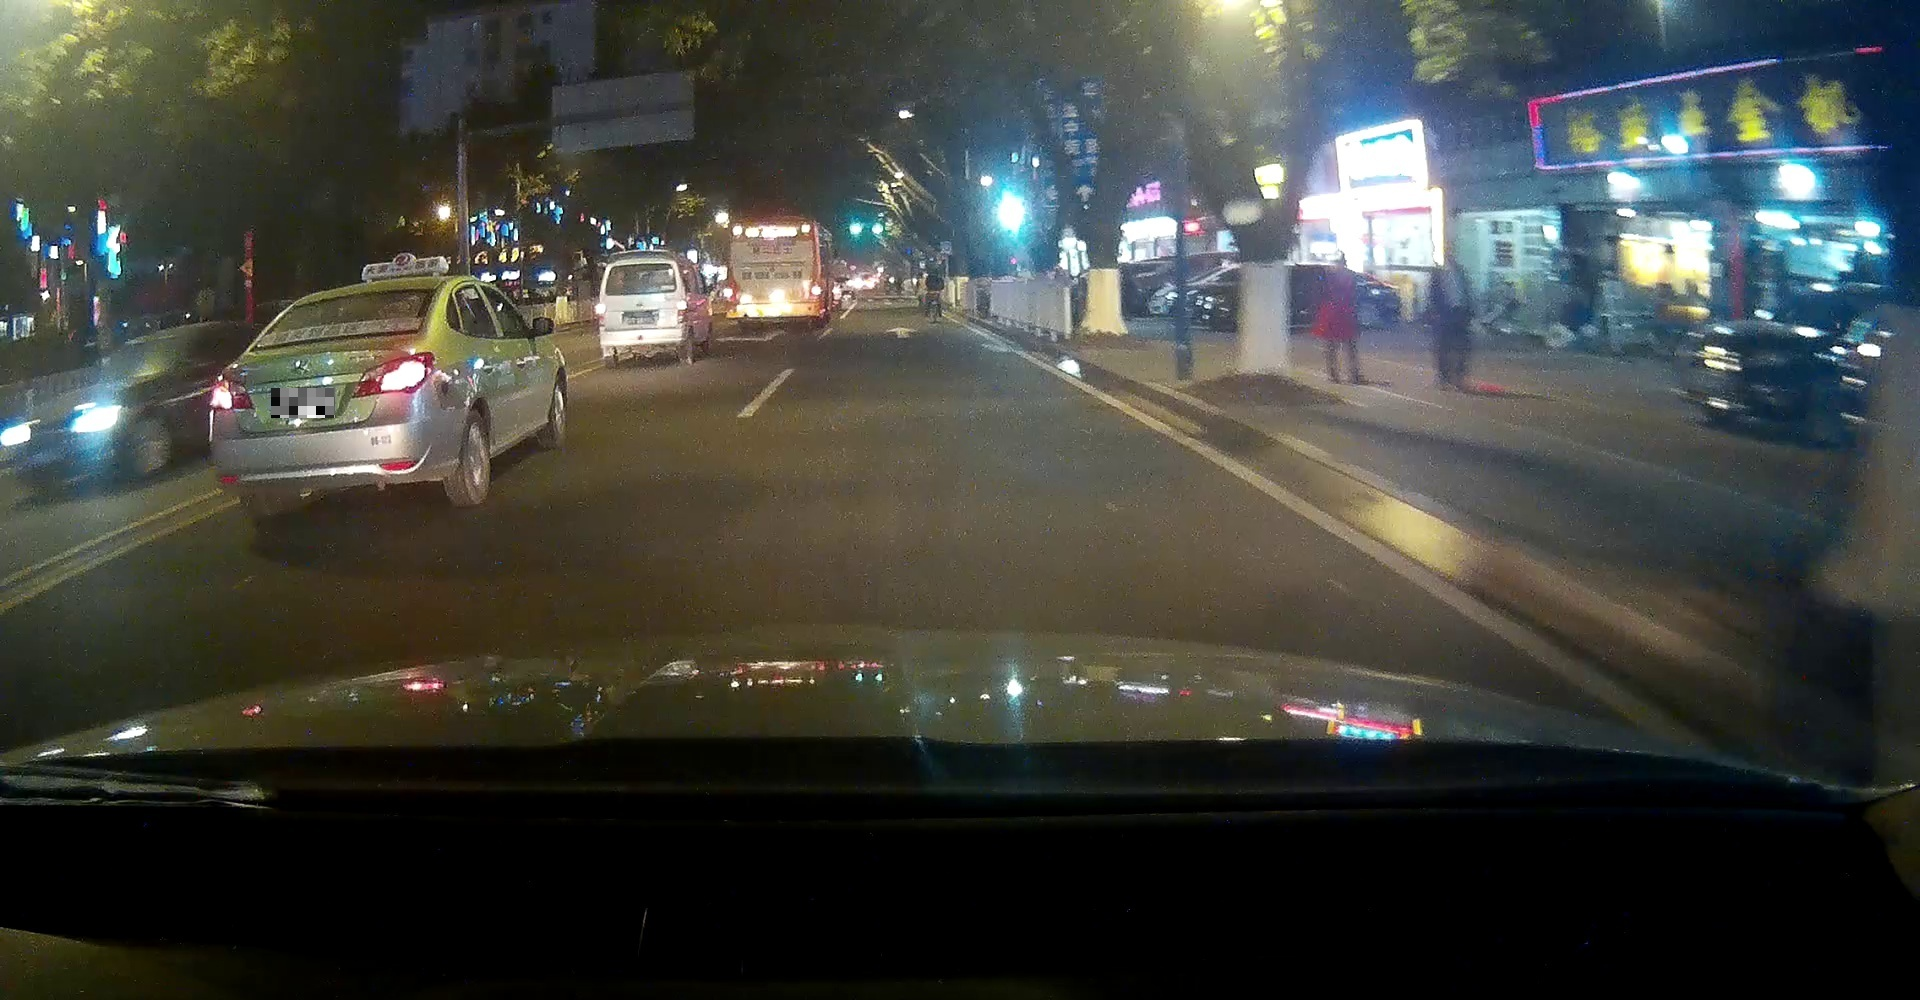L_light: (210, 377, 254, 411), (725, 280, 738, 302), (596, 299, 607, 321)
R_light: (352, 352, 436, 397), (809, 278, 822, 299), (677, 299, 688, 319)
T_light: (311, 334, 345, 343), (630, 251, 648, 258), (762, 223, 777, 228)
night-no: (208, 275, 442, 523), (596, 249, 690, 369), (725, 216, 822, 331)
plate_1: (270, 388, 335, 418)
